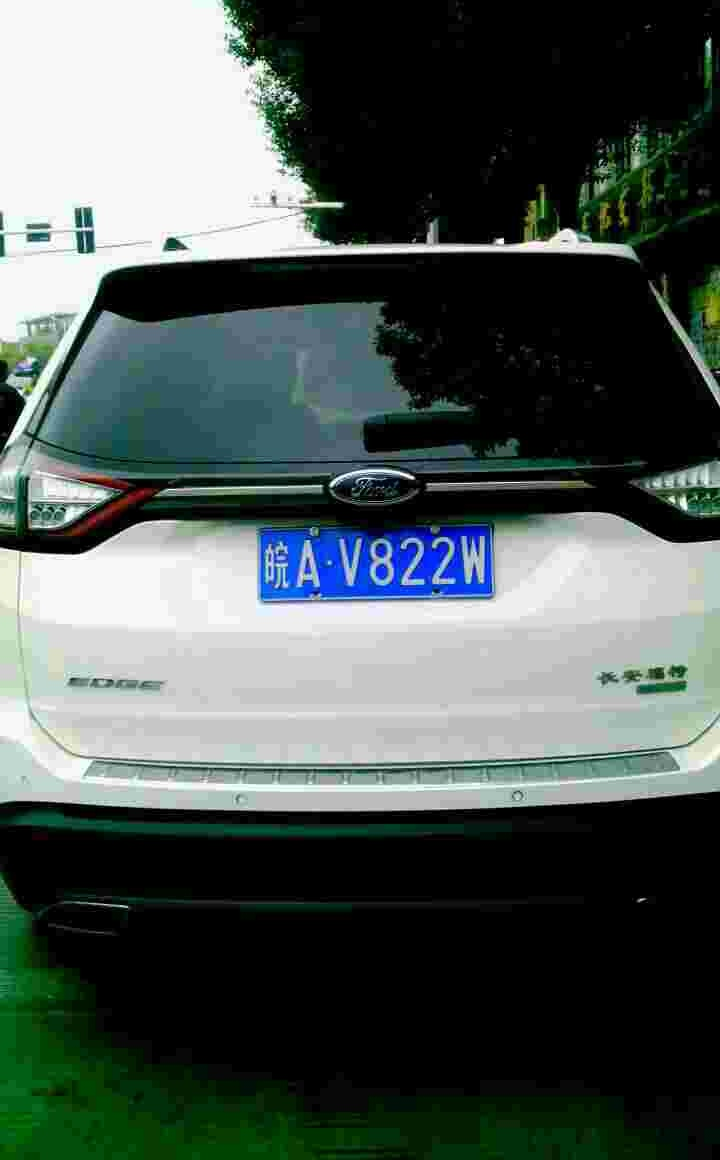license_plate: (248, 521, 511, 598)
